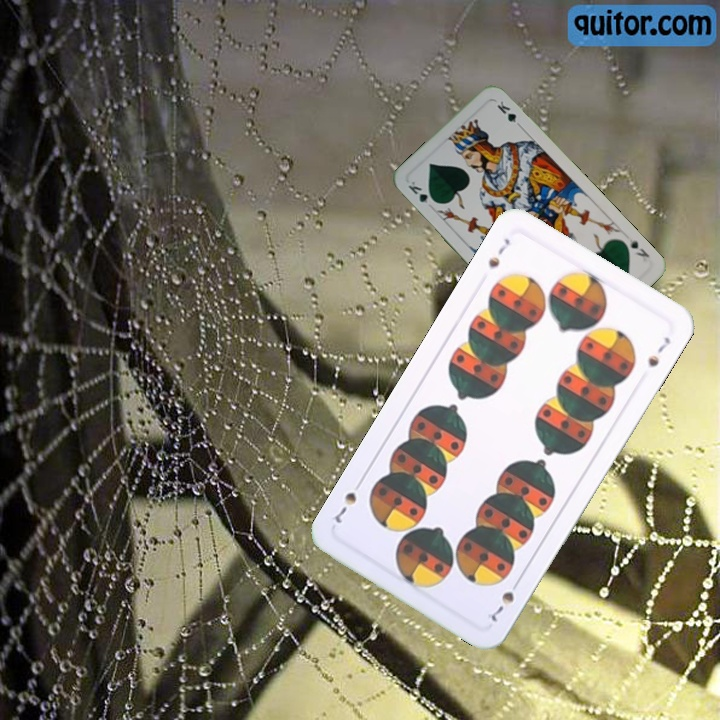GK: (404, 177, 439, 206), (625, 235, 652, 260)
S7: (486, 574, 524, 625), (484, 234, 513, 271)
